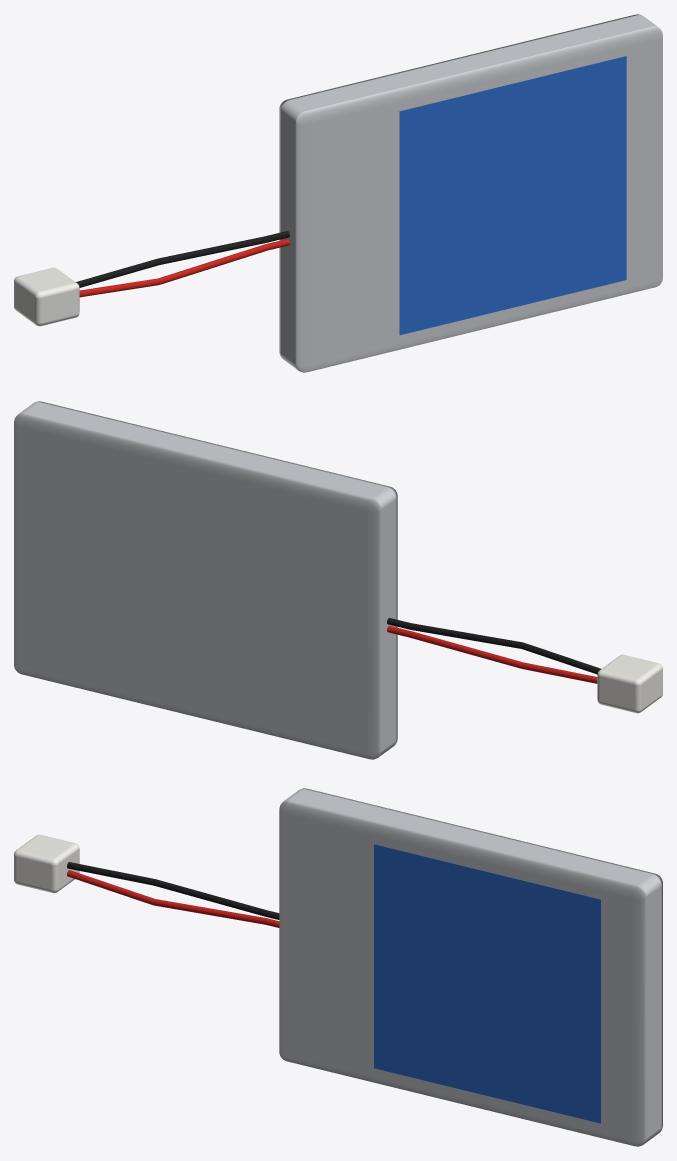
File: lipo-1s-1000.glb
3 views of the same model, one above another, from view 1: azimuth 30°, elevation 25°; view 2: azimuth 150°, elevation 25°; view 3: azimuth 330°, elevation 25° (orthographic).
Visible parts, largest first — view 1: body, label, connector, lead_black, lead_red; view 2: body, connector, lead_black, lead_red; view 3: body, label, connector, lead_black, lead_red.
Boxes of the visible parts, left/top/right/bottom form: body: left=279, top=14, right=662, bottom=372; label: left=399, top=56, right=626, bottom=335; connector: left=14, top=267, right=79, bottom=326; lead_black: left=76, top=231, right=289, bottom=287; lead_red: left=79, top=239, right=289, bottom=297; body: left=14, top=401, right=397, bottom=759; connector: left=597, top=654, right=662, bottom=713; lead_black: left=387, top=618, right=600, bottom=674; lead_red: left=387, top=626, right=597, bottom=683; body: left=279, top=788, right=662, bottom=1146; label: left=374, top=844, right=600, bottom=1123; connector: left=14, top=834, right=79, bottom=893; lead_black: left=67, top=862, right=279, bottom=919; lead_red: left=67, top=870, right=279, bottom=927.
Bounding box in the file's own units: 86 × 34 × 6.04.
